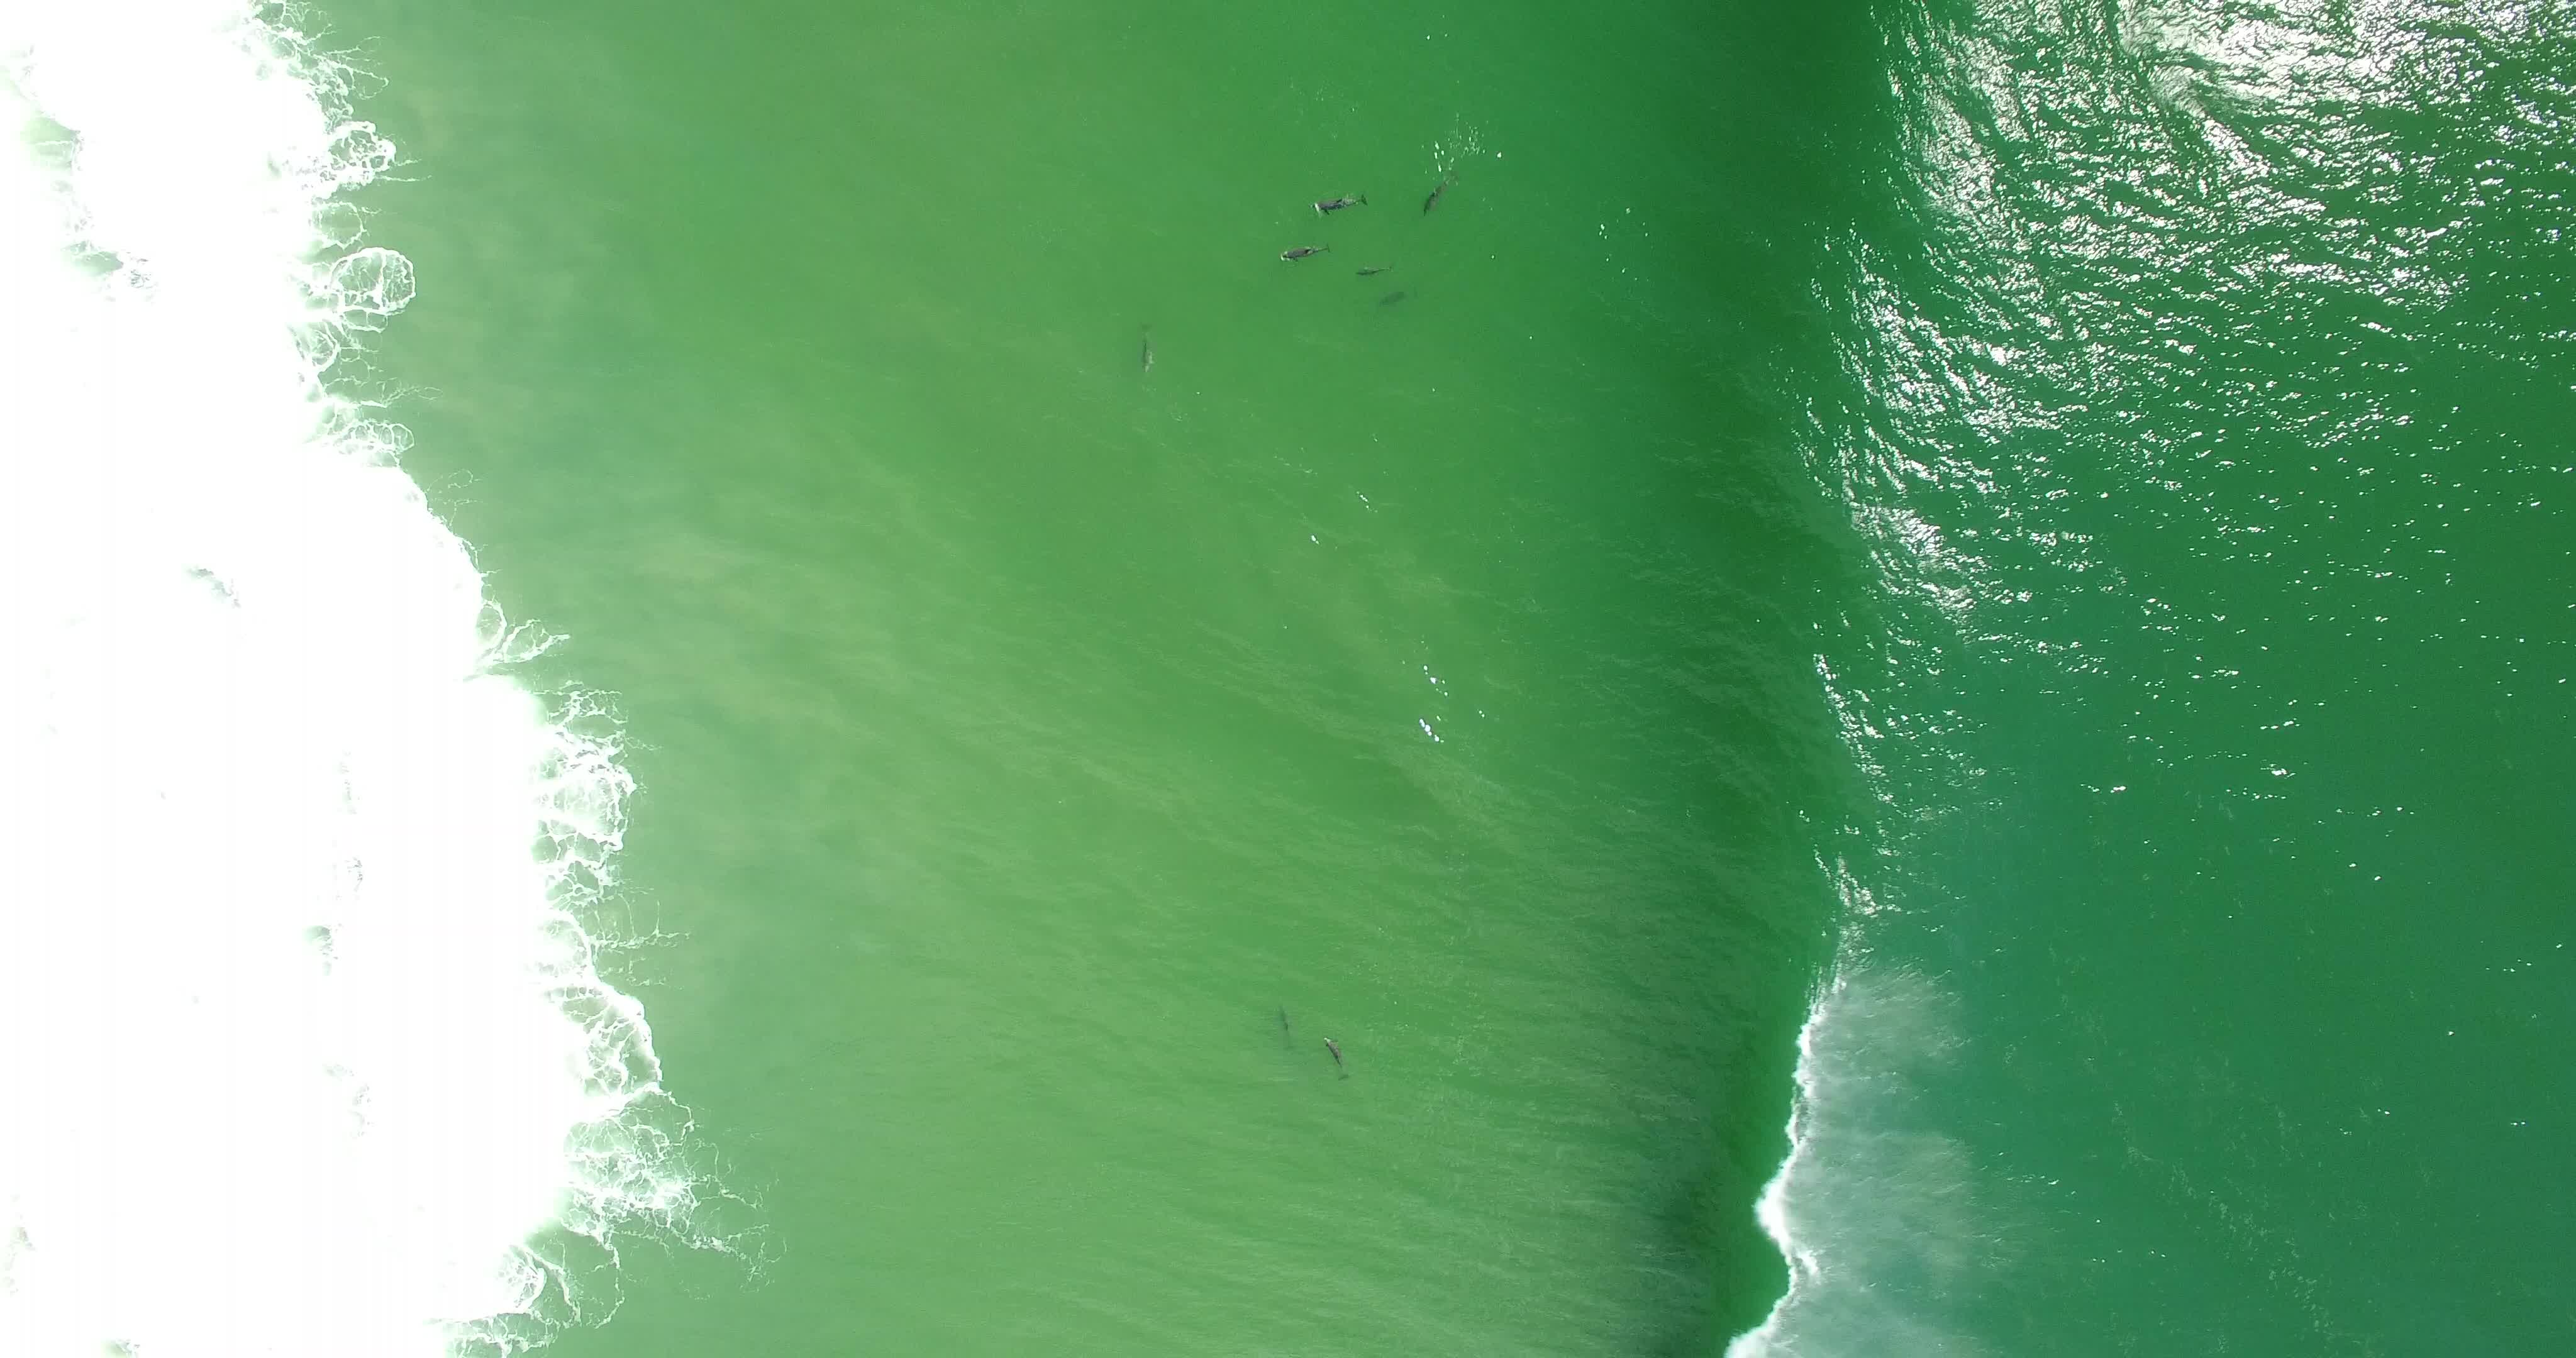dolphin: (1400, 157, 1469, 223), (1264, 225, 1334, 271), (1314, 1021, 1356, 1096), (1119, 302, 1162, 375), (1305, 172, 1370, 218), (1360, 264, 1419, 314), (1348, 245, 1409, 281), (1276, 998, 1302, 1058)
